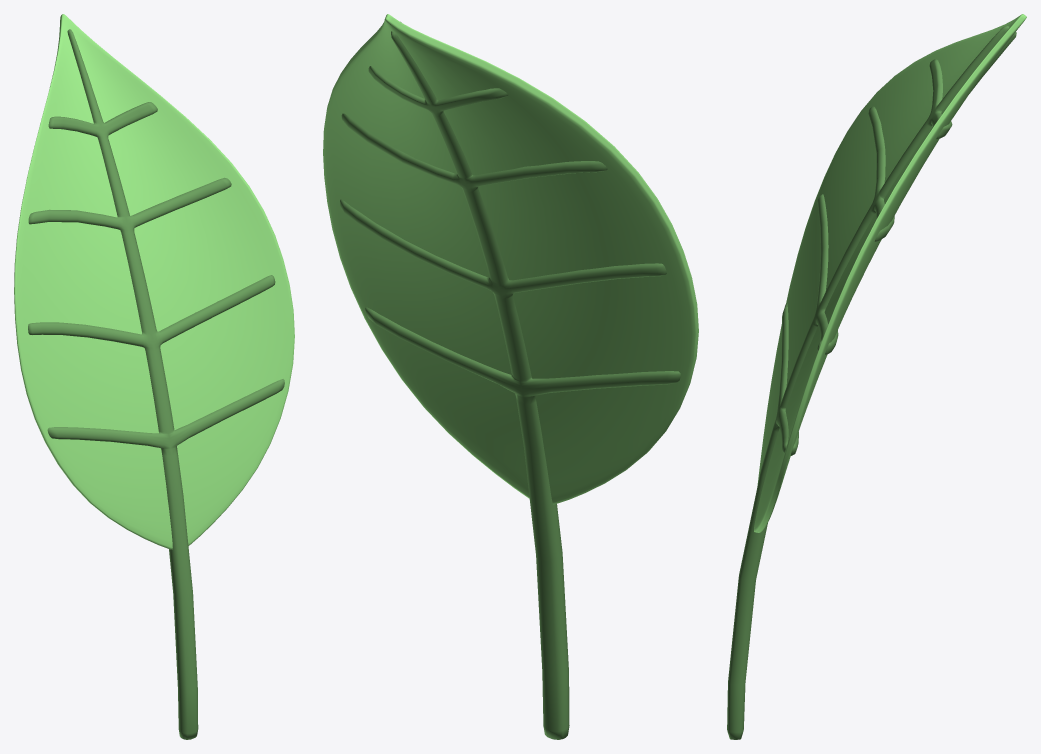
Rendered from Green_Leaf.fbx.
3 views of the same model, side by side, from view 1: azimuth 30°, elevation 25°; view 2: azimuth 150°, elevation 25°; view 3: azimuth 270°, elevation 25° (orthographic). The views are drawn at different scales.
Parts seen in each view (by area): view 1: Plane.010; view 2: Plane.010; view 3: Plane.010.
Boxes of the visible parts, <box> form: Plane.010: <box>14,14,294,739</box>; Plane.010: <box>323,14,698,739</box>; Plane.010: <box>727,14,1026,739</box>.
Bounding box in the file's own units: 144 × 319 × 120.
